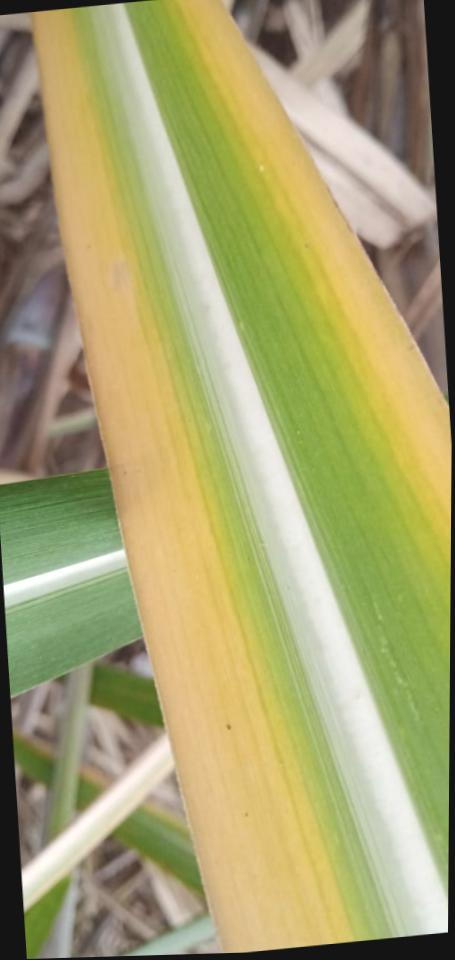Rust: (224, 723, 233, 732), (243, 811, 248, 817)
Yellow: (29, 8, 354, 953), (172, 0, 451, 543)
